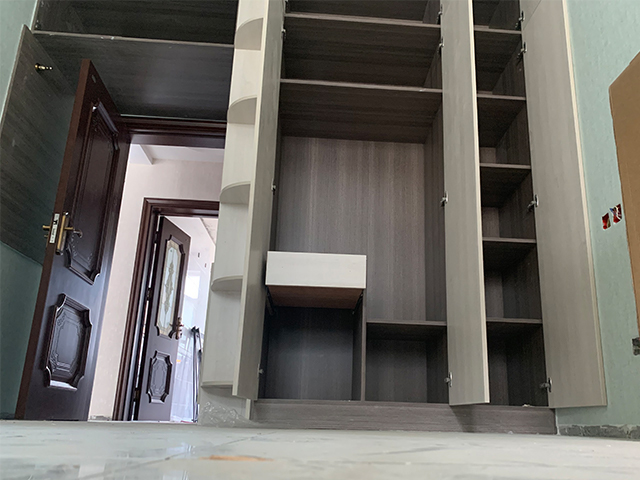cabinet: (204, 233, 541, 435)
